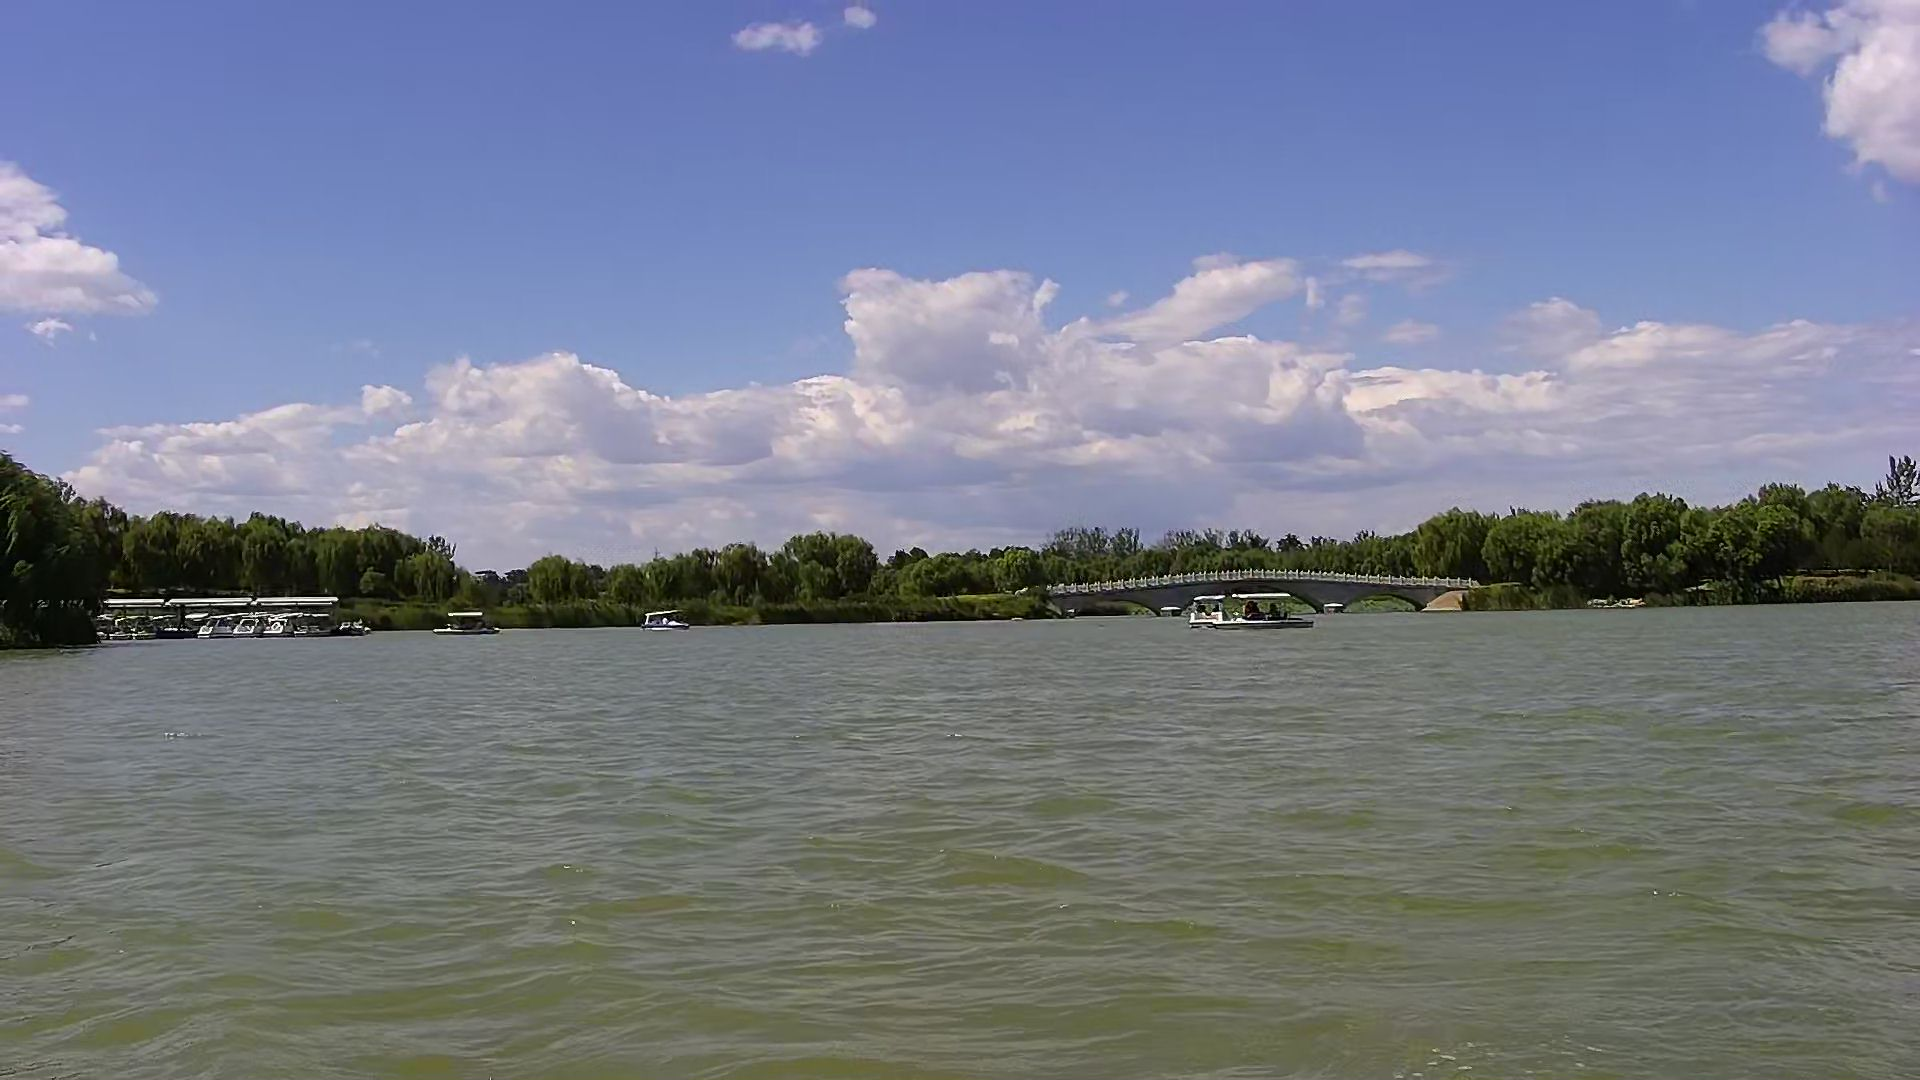boat: (1233, 588, 1315, 640), (429, 608, 518, 637), (625, 604, 695, 640), (1183, 588, 1226, 632)
bridge: (1039, 564, 1476, 611)
